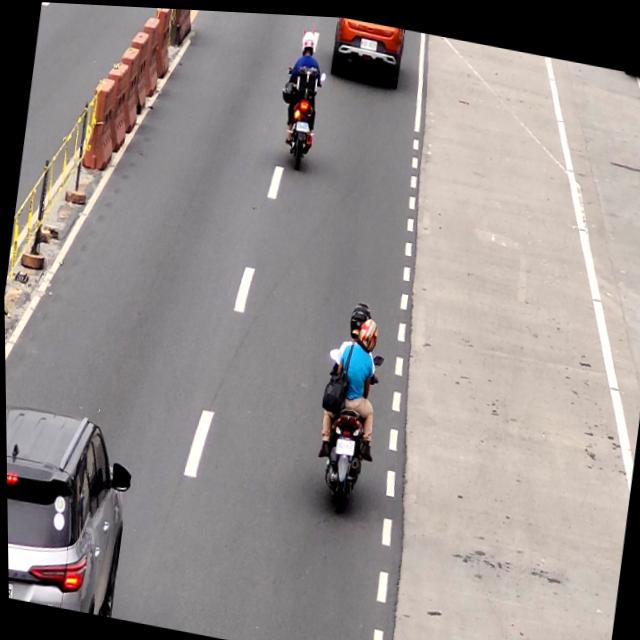Car: (5, 398, 139, 617), (330, 13, 406, 80)
License-Plate: (333, 433, 354, 452), (358, 31, 380, 48), (293, 117, 311, 131)
Motorcycle: (307, 291, 392, 516), (278, 25, 326, 167)
